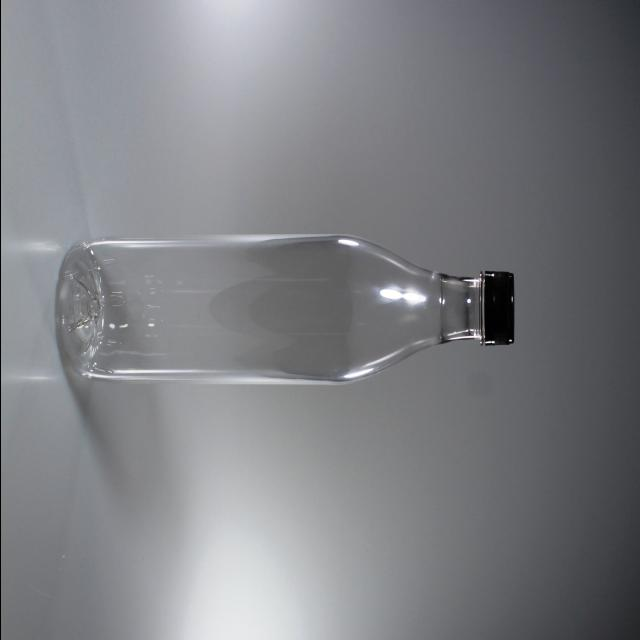bottle: (55, 235, 514, 383)
